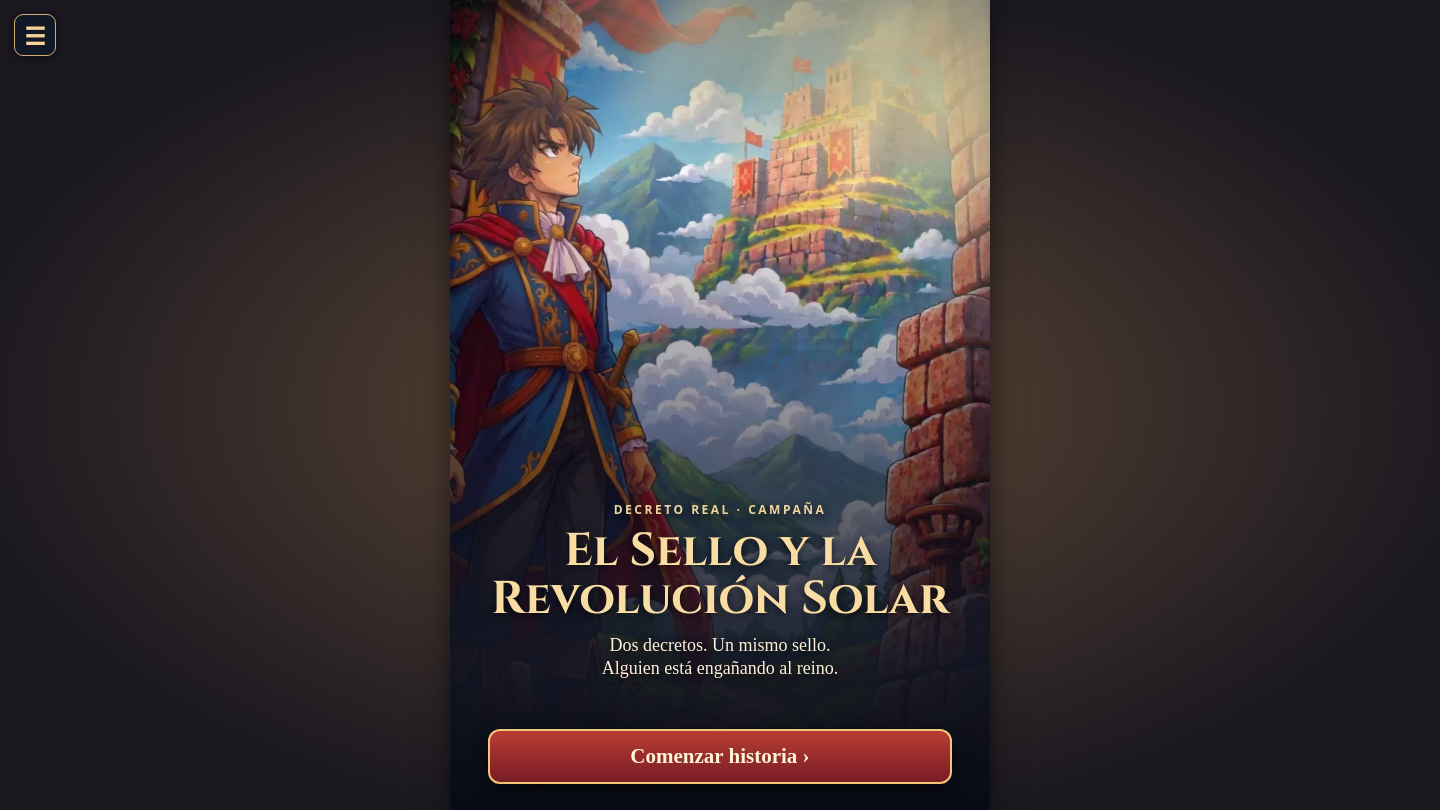
Test: beginning starts the cinematic prologue and resets only its checkpoint
Click the button "Comenzar historia ›": (720, 756) [488,729,952,784]
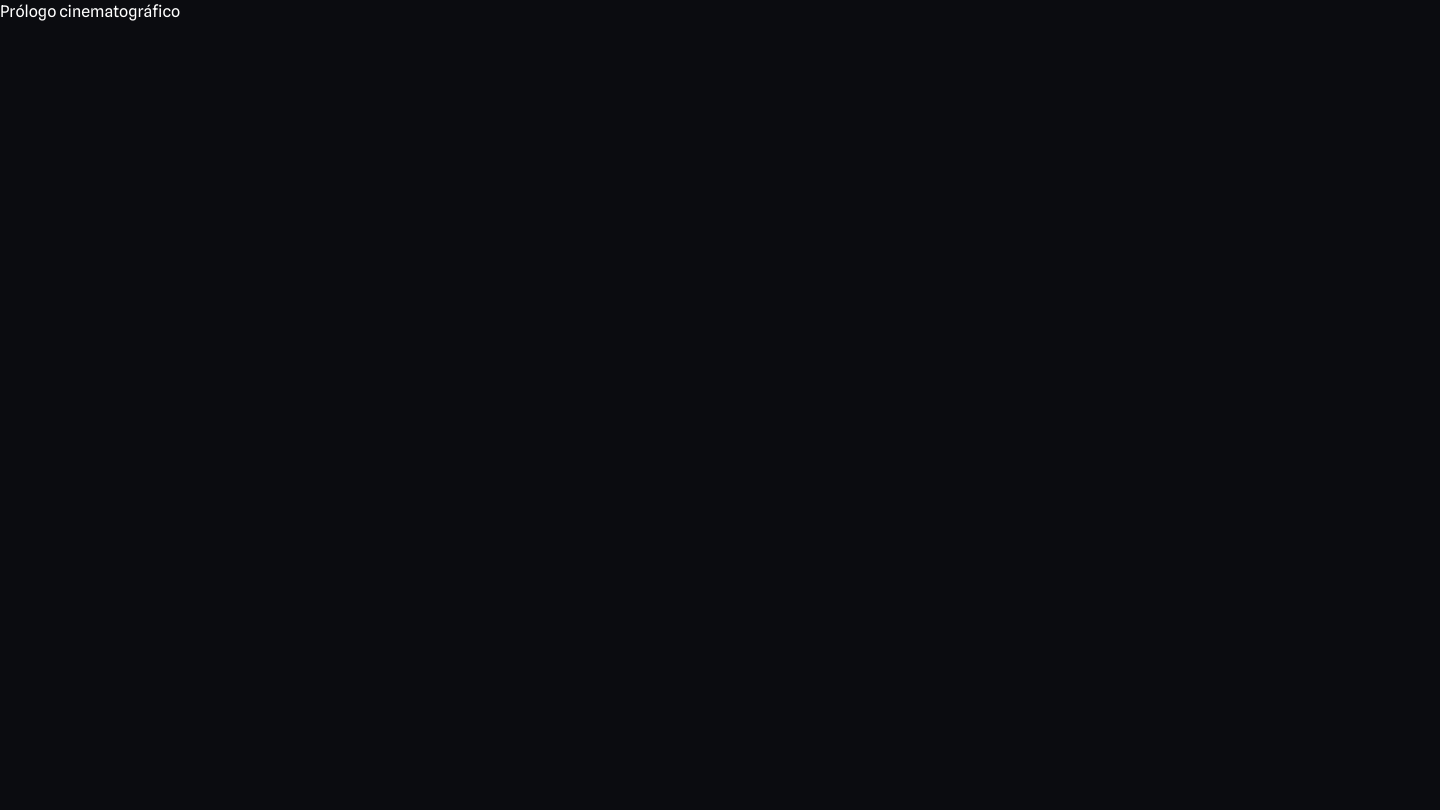
Check: the heading "Prólogo cinematográfico" is shown, box [0,2,180,21]
